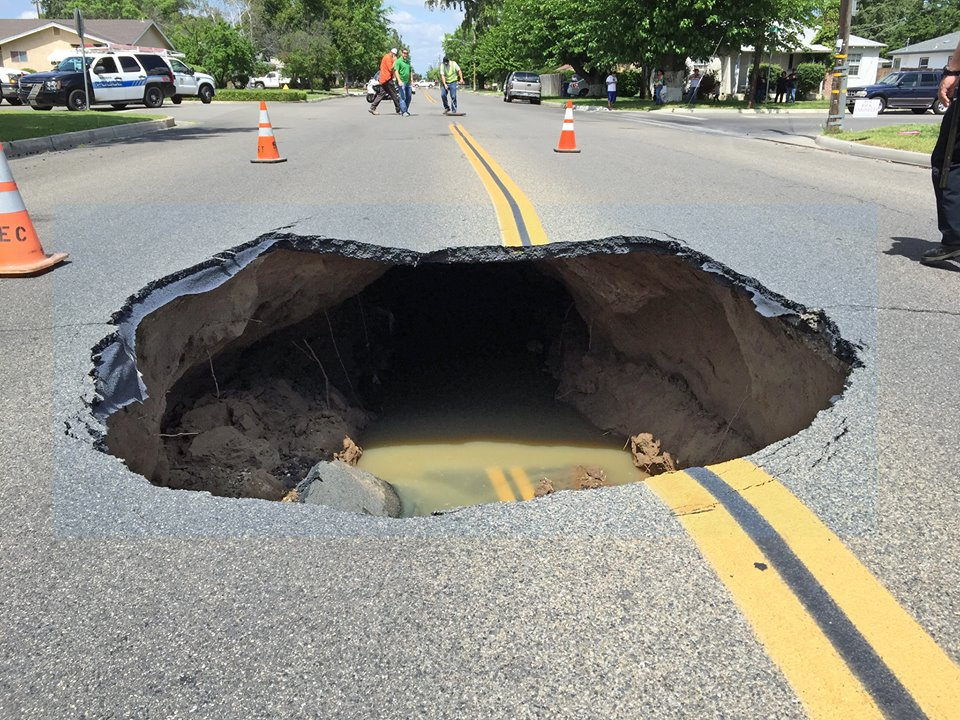Car: (20, 44, 183, 116)
Hole_in_the_road: (82, 203, 872, 567)
Person: (369, 48, 410, 115), (433, 50, 466, 123)
Road_cone: (1, 148, 69, 283), (247, 100, 290, 170), (548, 97, 587, 160)
